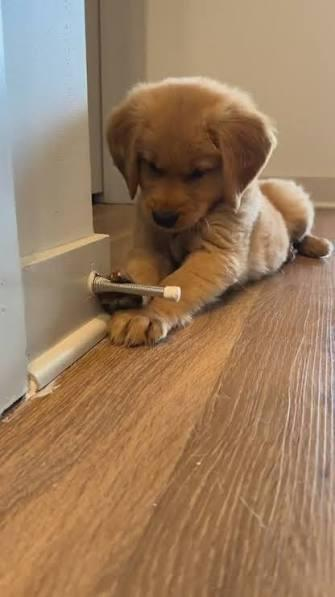puppy-dog: (97, 74, 333, 348)
